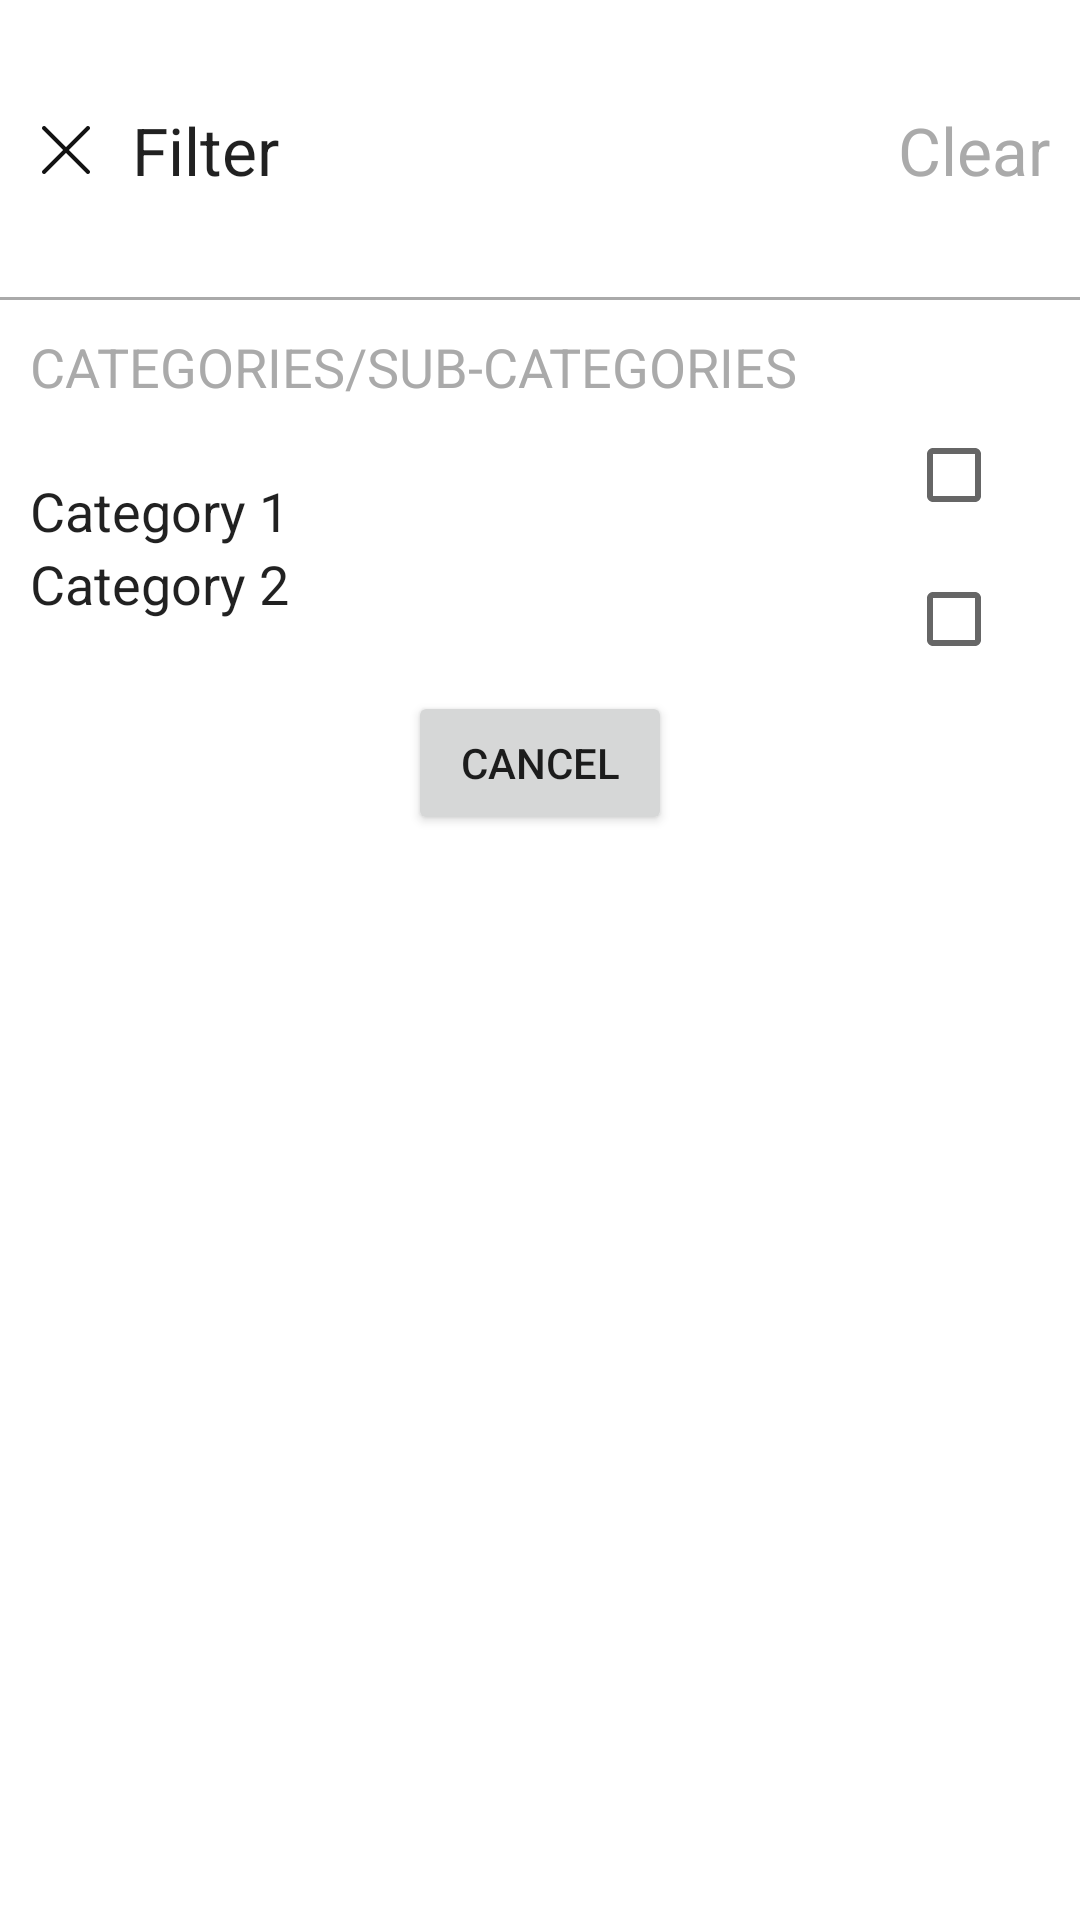

Icons on this 1080 x 1920 Android screen, each with its box as (x1, y1, x2, y2):
cross symbol: (42, 126, 90, 174)
